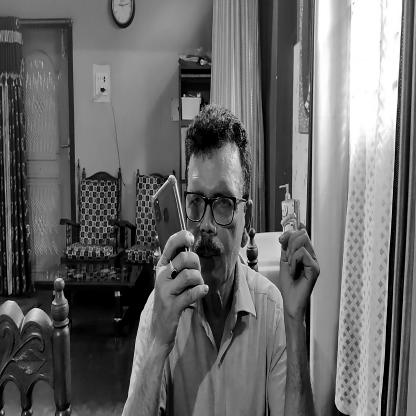Distracted: (187, 112, 252, 284)
